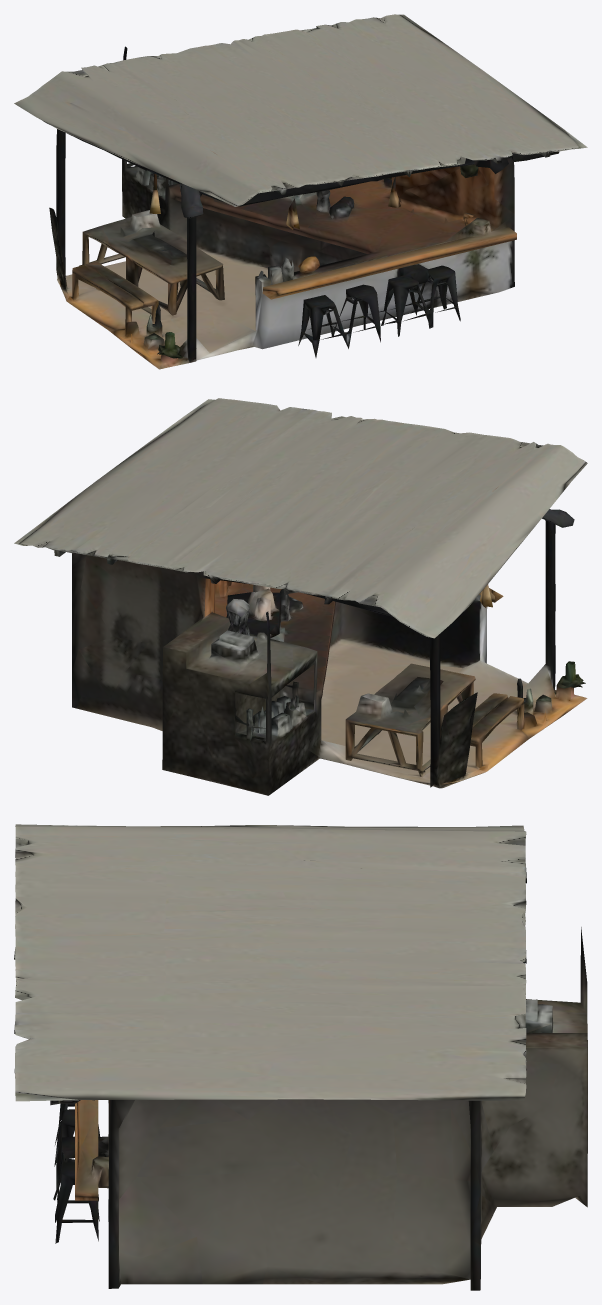
File: cafe_mangrove.glb
The picture shows the model from 3 angles, top to bottom: view 1: azimuth 30°, elevation 25°; view 2: azimuth 150°, elevation 25°; view 3: azimuth 270°, elevation 25°; orthographic projection. The views are drawn at different scales.
Parts seen in each view (by area): view 1: tripo_node_cec3957b-c8bc-48e9-8535-0d9aee4410a4; view 2: tripo_node_cec3957b-c8bc-48e9-8535-0d9aee4410a4; view 3: tripo_node_cec3957b-c8bc-48e9-8535-0d9aee4410a4.
Part boxes in pixels (<box>): tripo_node_cec3957b-c8bc-48e9-8535-0d9aee4410a4: <box>14,14,587,369</box>; tripo_node_cec3957b-c8bc-48e9-8535-0d9aee4410a4: <box>14,398,587,795</box>; tripo_node_cec3957b-c8bc-48e9-8535-0d9aee4410a4: <box>14,824,587,1290</box>.
Size of the model in its own units: 1 by 0.4785 by 0.9089.
1 material, 1 textured.
